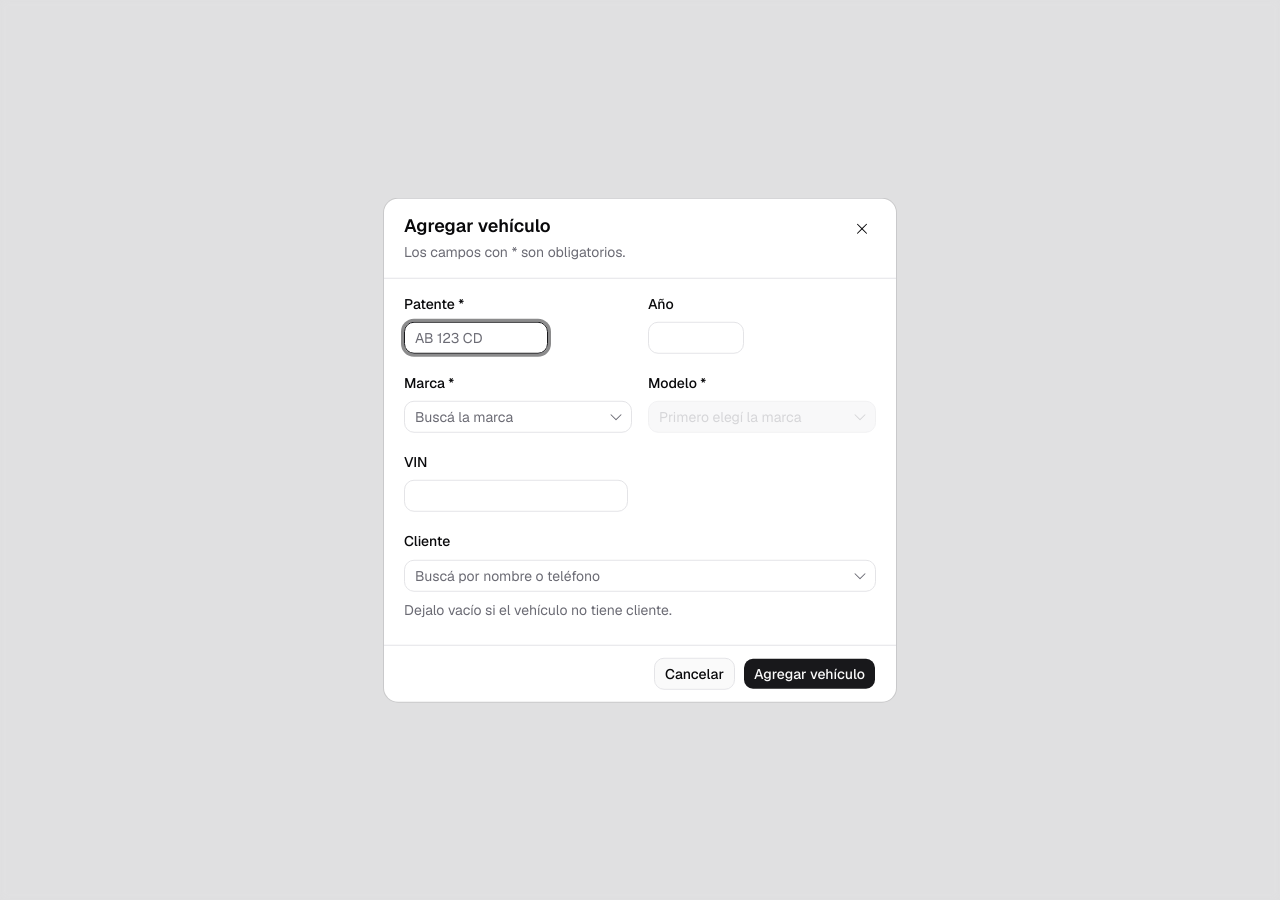
Test case: vehicle form: add › asks for what is missing, linked to each field, with focus on the first
The image size is (1280, 900).
Click the button "Agregar vehículo": (809, 673) [743, 657, 876, 689]
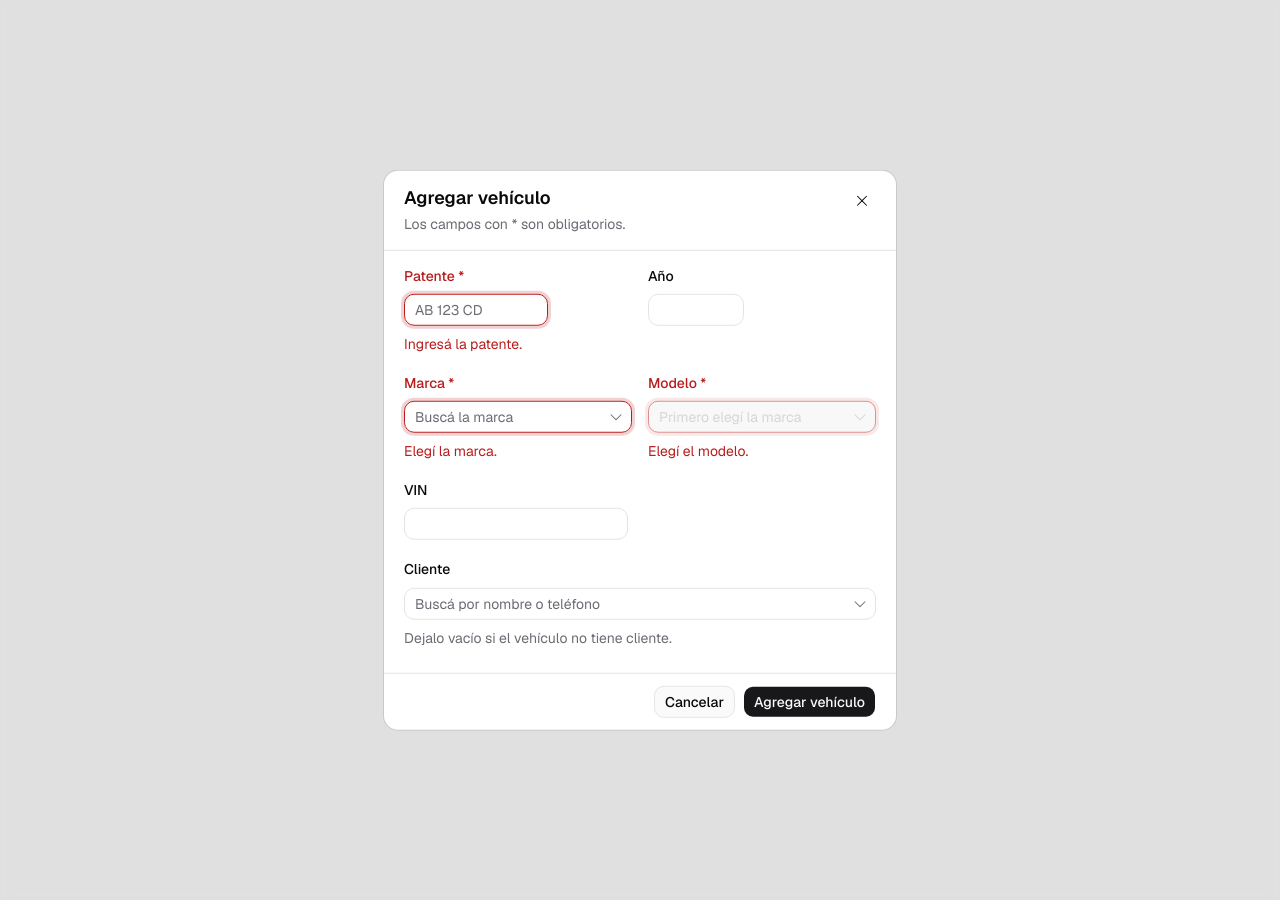
Now the text "Ingresá la patente." is shown, box [404, 334, 522, 352]
Now the text "Elegí la marca." is shown, box [404, 442, 497, 460]
Now the text "Elegí el modelo." is shown, box [648, 442, 748, 460]
